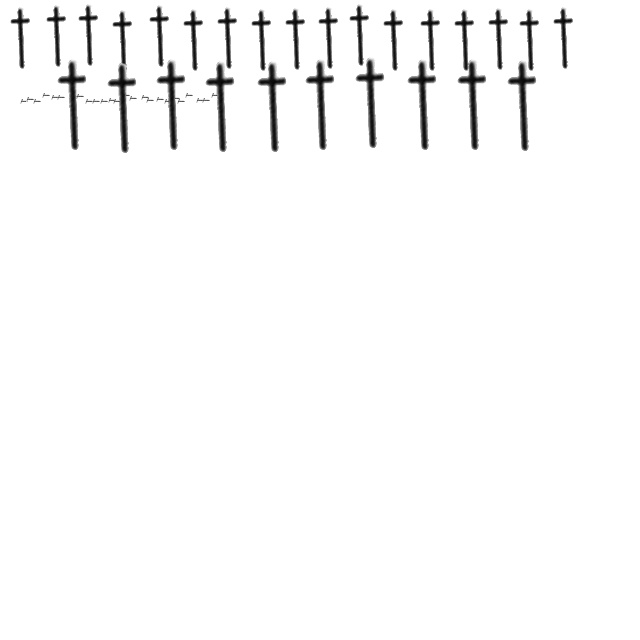enseble_chain: (97, 62, 151, 156), (497, 60, 551, 154), (47, 60, 101, 152), (146, 60, 200, 152), (195, 62, 249, 154), (247, 62, 301, 154), (295, 60, 349, 152), (345, 58, 399, 150), (397, 60, 451, 152), (447, 60, 501, 152), (278, 8, 316, 72), (342, 4, 380, 68), (142, 6, 180, 68), (176, 10, 214, 72), (210, 8, 248, 70), (244, 10, 282, 72), (376, 10, 414, 72), (512, 10, 550, 72), (546, 8, 584, 70), (72, 4, 108, 68), (106, 10, 142, 74), (482, 8, 518, 72), (4, 8, 40, 70), (40, 6, 76, 68), (312, 8, 348, 70), (414, 10, 450, 72), (448, 10, 484, 72), (69, 94, 77, 100), (76, 94, 84, 100), (108, 98, 116, 104), (129, 96, 137, 102), (146, 98, 154, 104), (172, 96, 180, 102), (196, 98, 204, 104), (202, 98, 210, 104), (20, 100, 28, 104), (26, 98, 34, 102), (33, 100, 41, 104), (42, 94, 50, 98), (51, 96, 59, 100), (57, 96, 65, 100), (85, 100, 93, 104), (92, 100, 100, 104), (100, 100, 108, 104), (113, 100, 121, 104), (122, 94, 130, 98), (141, 96, 149, 100), (156, 98, 164, 102), (164, 100, 172, 104), (177, 100, 185, 104), (185, 94, 193, 98), (211, 94, 219, 98)
